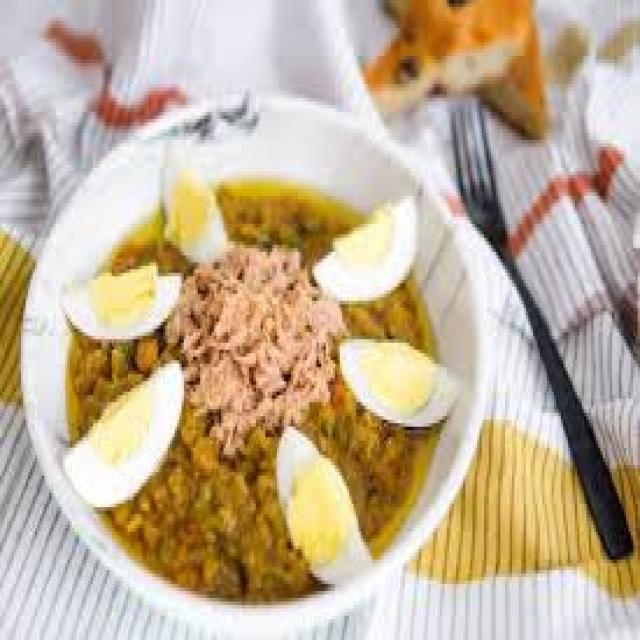Salade mechweya: (64, 171, 437, 600)
